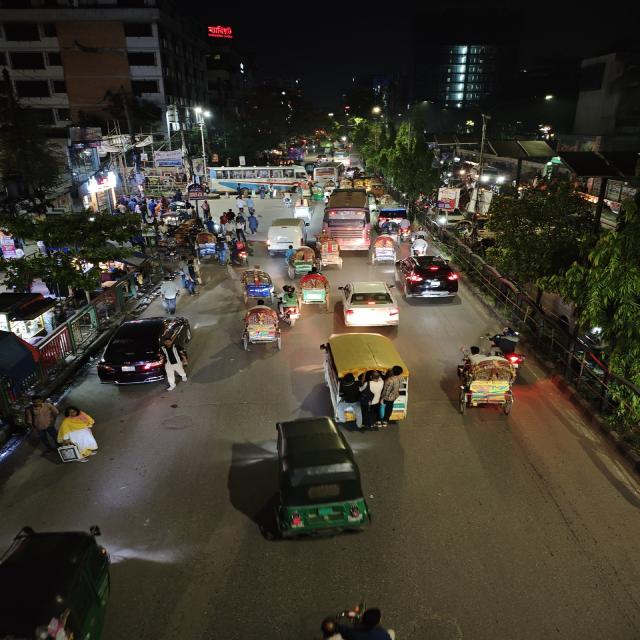bus: (320, 188, 377, 249), (207, 165, 303, 186), (314, 162, 336, 182)
car: (97, 312, 202, 391), (394, 254, 465, 302), (334, 279, 399, 329), (265, 220, 304, 256), (376, 205, 408, 224)
cng: (257, 416, 379, 546)
human_hauler: (318, 330, 412, 434)
motorcycle: (485, 326, 530, 374), (276, 287, 303, 327), (230, 234, 251, 266), (408, 234, 431, 256)
pedestrian: (48, 405, 108, 467), (22, 396, 58, 454), (158, 337, 191, 392), (158, 275, 182, 313), (180, 257, 202, 296), (214, 240, 231, 266), (220, 208, 237, 234), (246, 210, 261, 234), (256, 186, 268, 200), (267, 186, 276, 200)
rickshaw: (451, 344, 519, 422), (237, 304, 285, 354), (236, 267, 276, 304), (296, 270, 331, 310), (370, 233, 400, 265), (317, 236, 346, 268), (286, 246, 316, 276), (192, 232, 216, 260), (292, 198, 312, 222), (307, 182, 322, 198)
